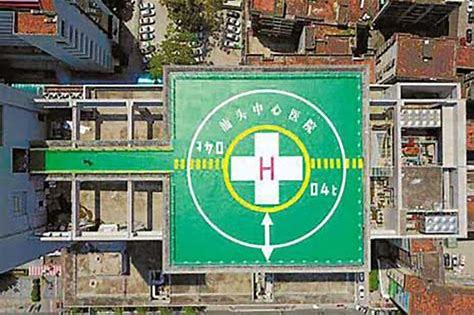H: (259, 157, 274, 182)
